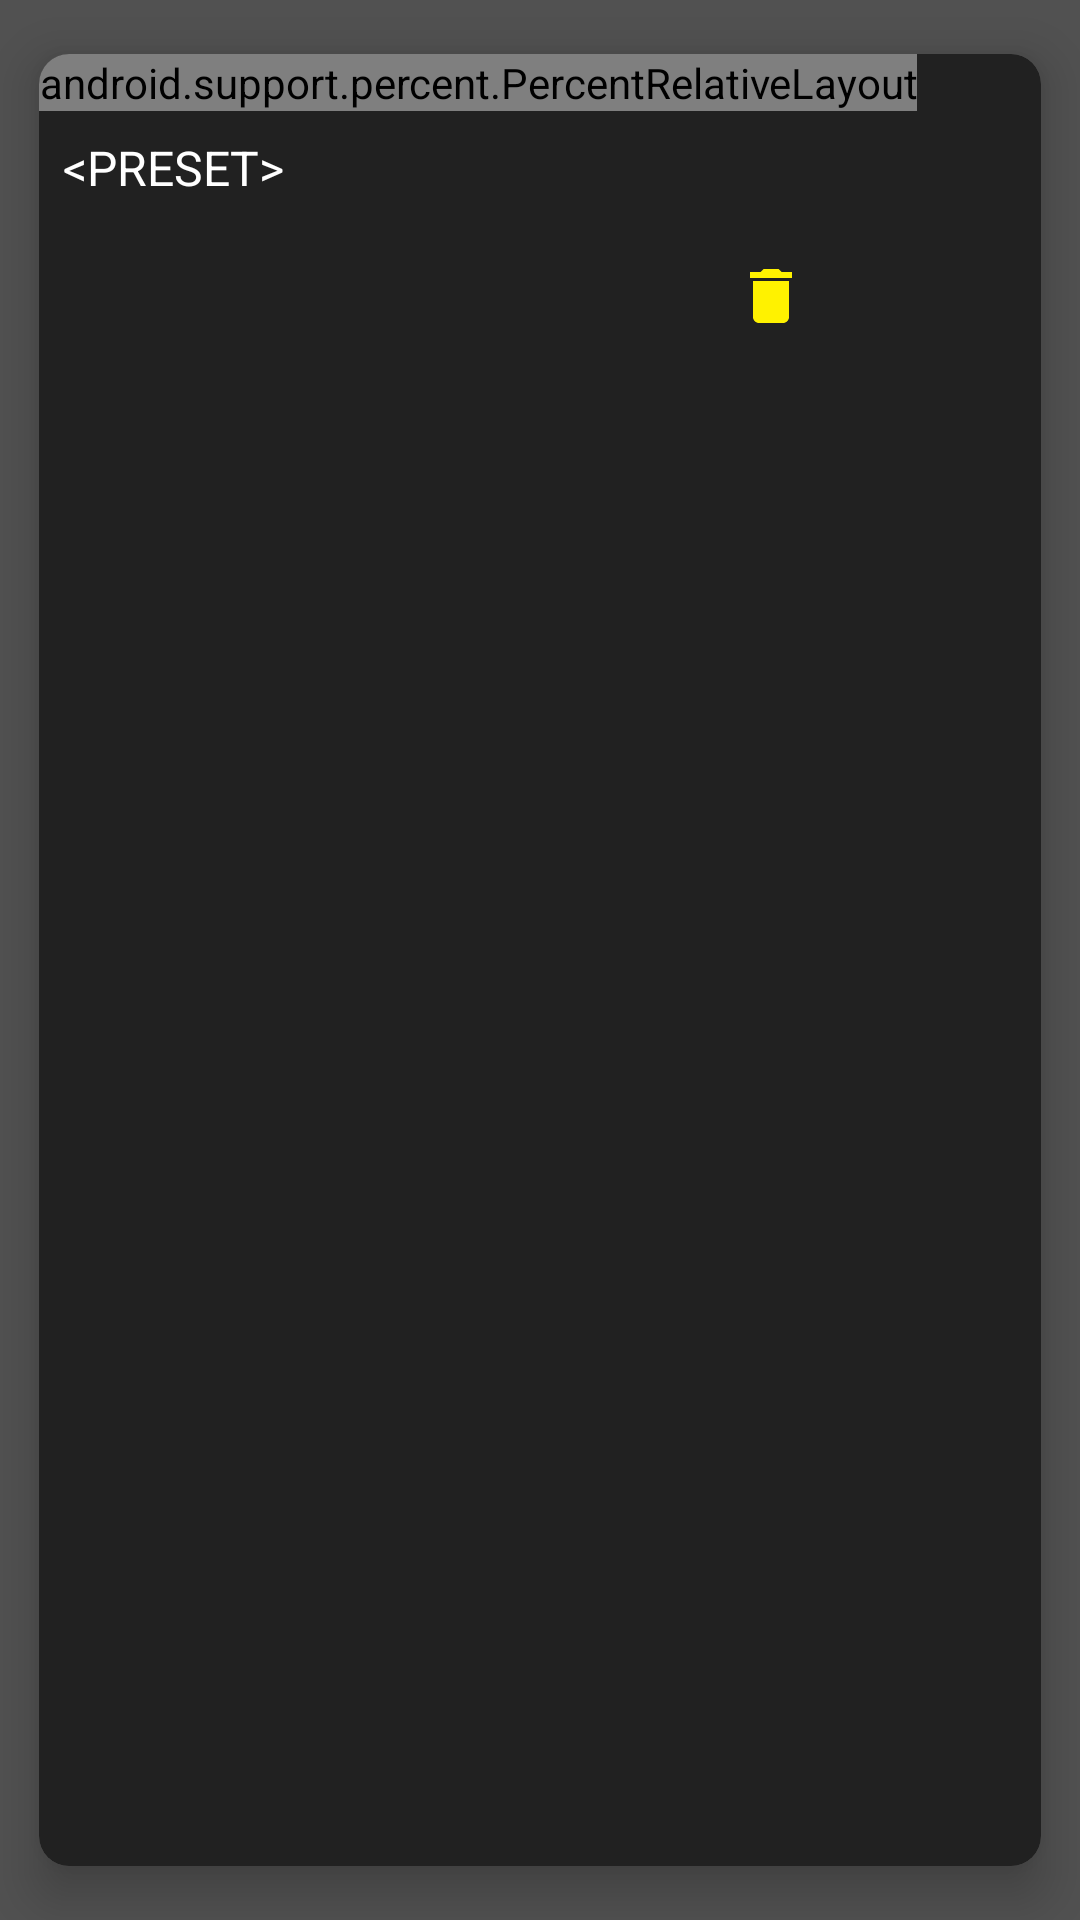

Where to tap for icons on this 1080×1920 app screen, as (x=x, y=y):
delete: (x=771, y=296)
